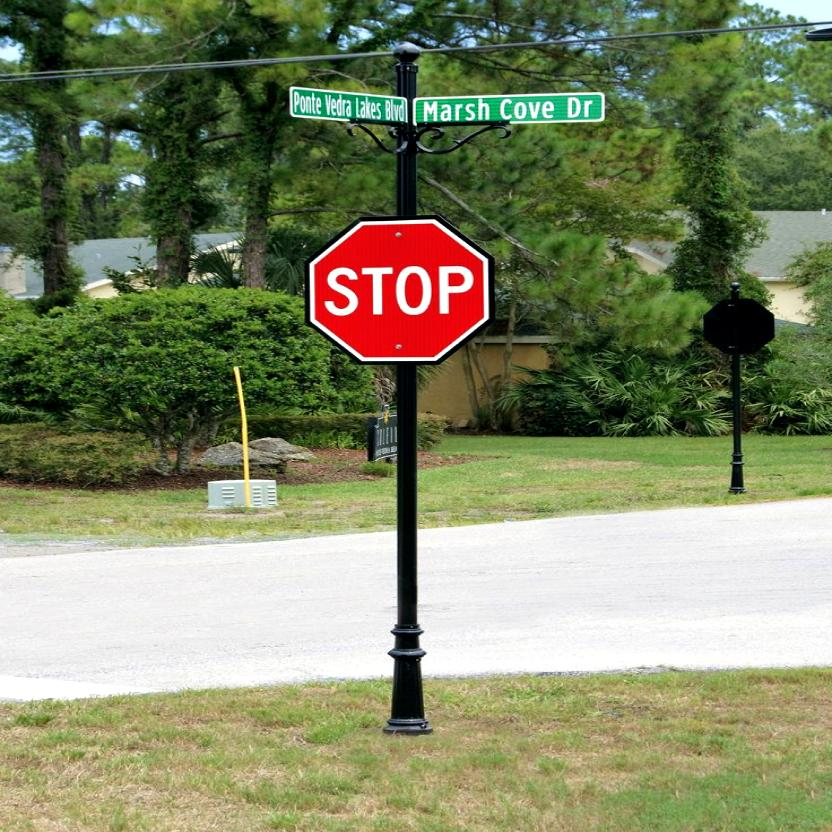Pole: (390, 369, 426, 731), (729, 353, 745, 488)
Sign: (312, 222, 482, 358), (700, 297, 779, 355)
